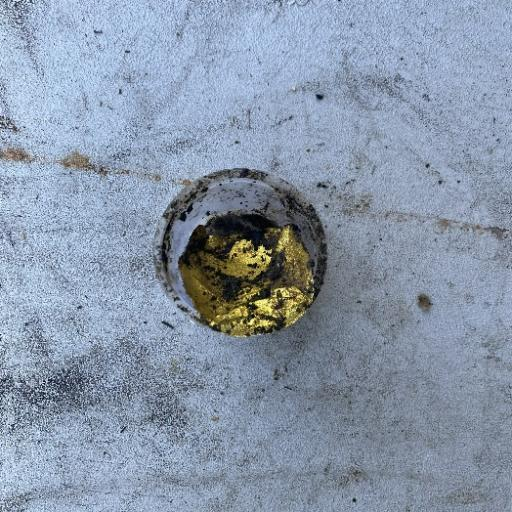Plastic: (152, 166, 330, 340)
